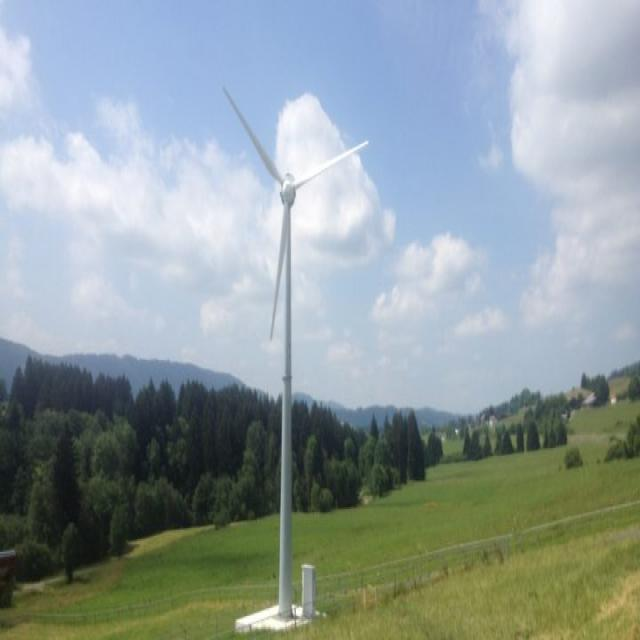wind-turbine: (224, 88, 368, 618)
